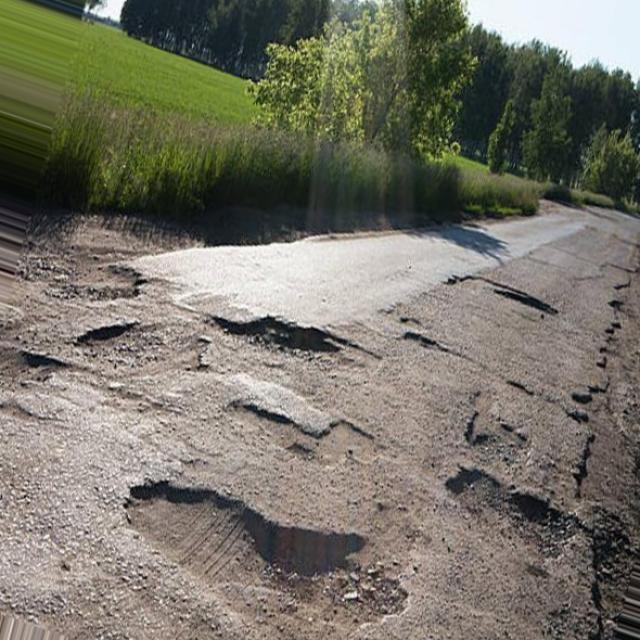Lubang: (128, 485, 403, 640), (446, 469, 572, 559), (197, 320, 371, 381), (222, 401, 371, 465), (73, 322, 160, 368)
Pinggir: (557, 272, 640, 640)
